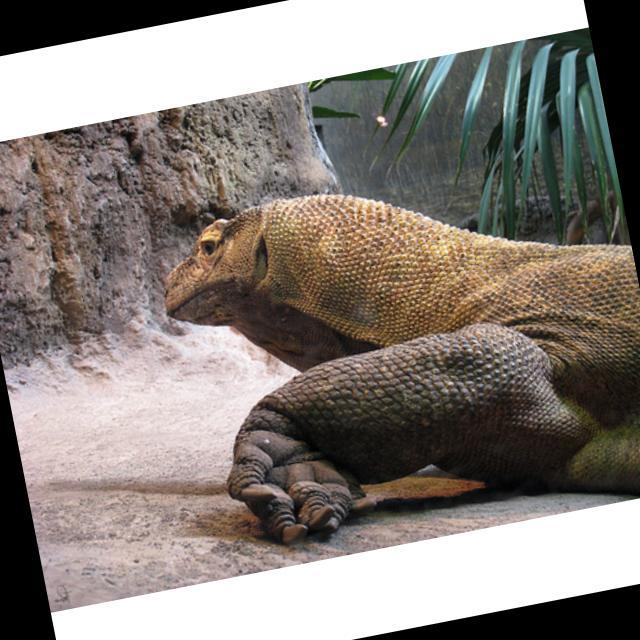KomodoDragon: (150, 135, 640, 576)
